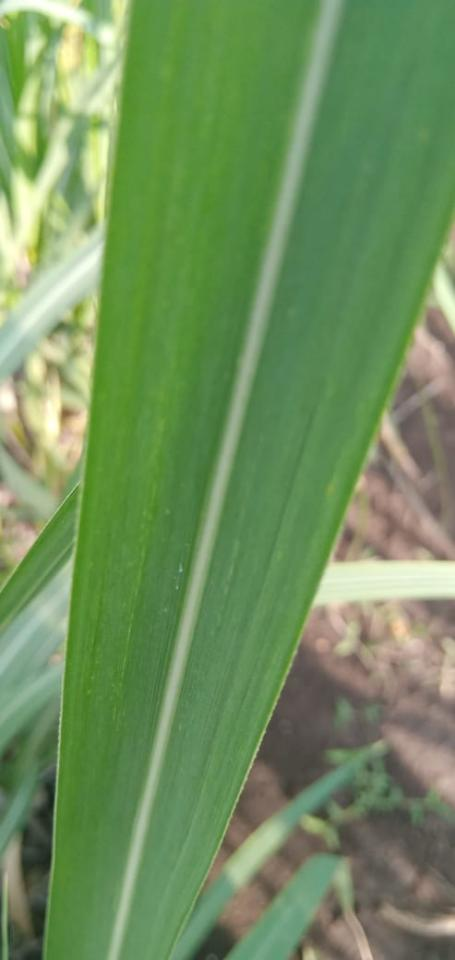Healthy: (45, 0, 454, 959)
